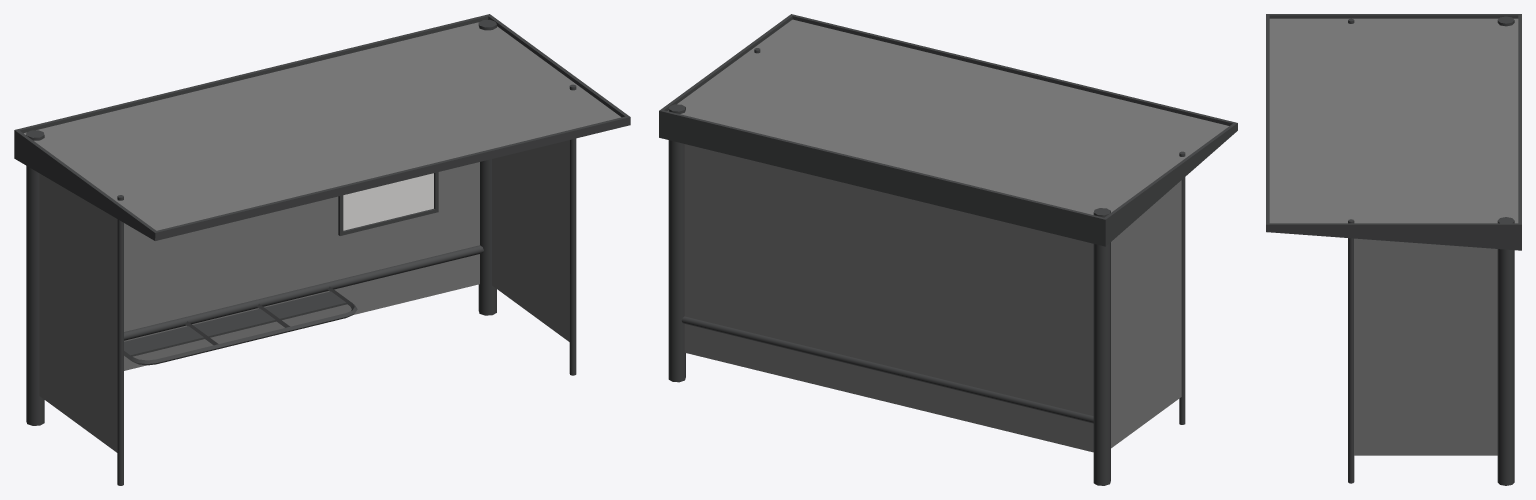
The model's file is SM_busstop_booth.fbx.
3 renders of one model, left to right at view 1: azimuth 30°, elevation 25°; view 2: azimuth 150°, elevation 25°; view 3: azimuth 270°, elevation 25°, orthographic. The views are drawn at different scales.
Parts seen in each view (by area): view 1: Line064; view 2: Line064; view 3: Line064.
Boxes of the visible parts, left/top/right/bottom form: Line064: left=14, top=14, right=630, bottom=485; Line064: left=659, top=14, right=1237, bottom=485; Line064: left=1266, top=14, right=1521, bottom=485.
Bounding box in the file's own units: 199 × 102 × 116.
